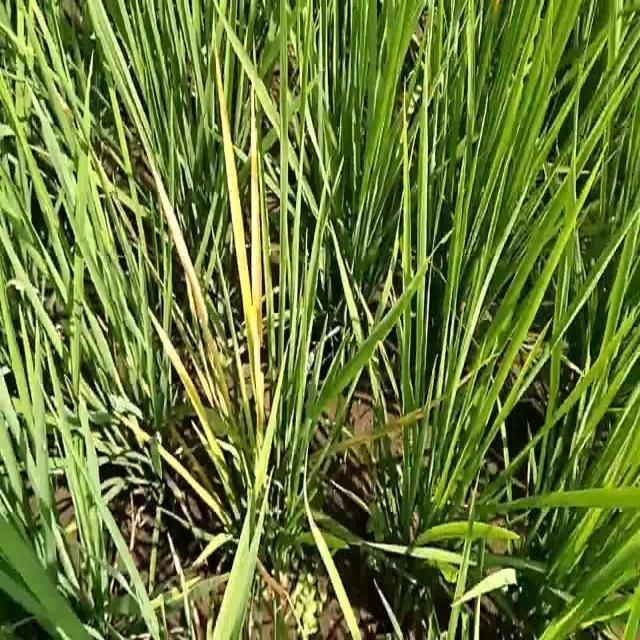Rice Tungro: (137, 116, 209, 342), (214, 28, 253, 313), (143, 296, 215, 448), (249, 77, 263, 360)
